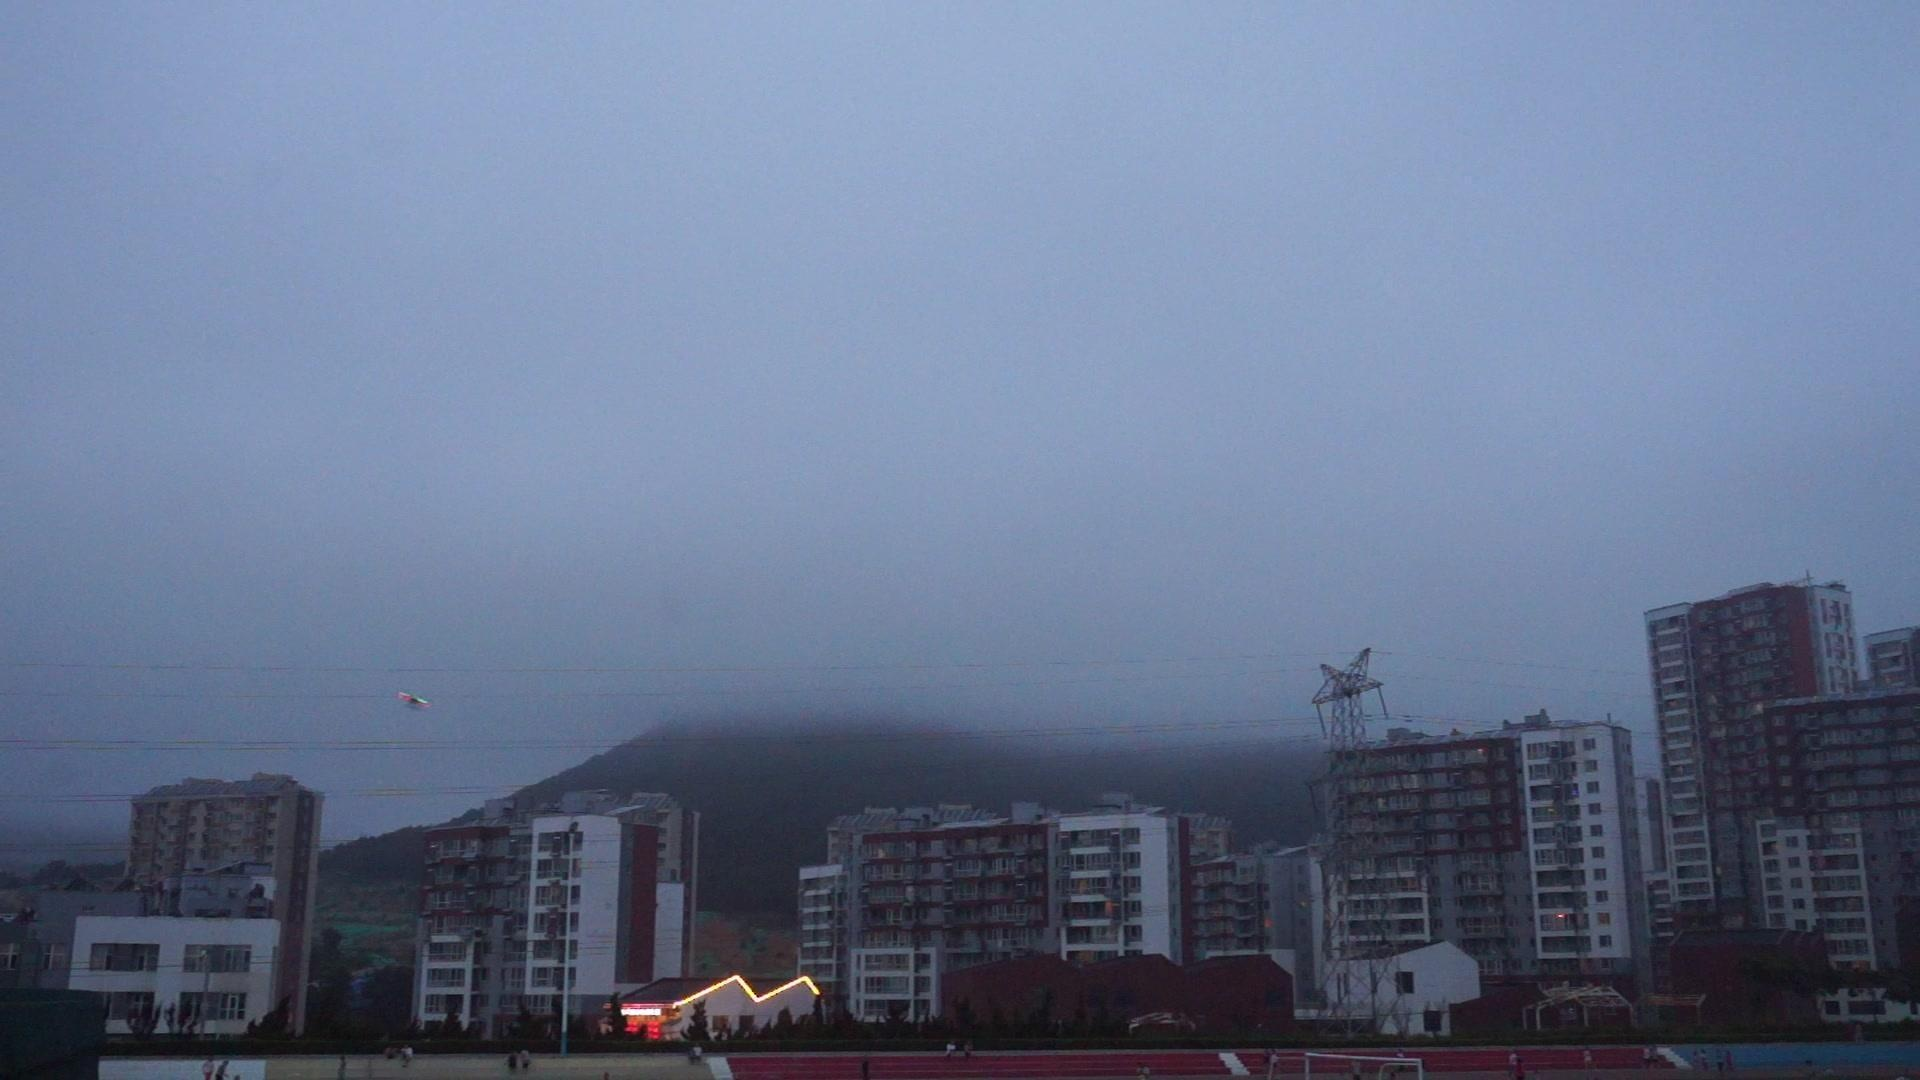UAV: (396, 692, 433, 709)
